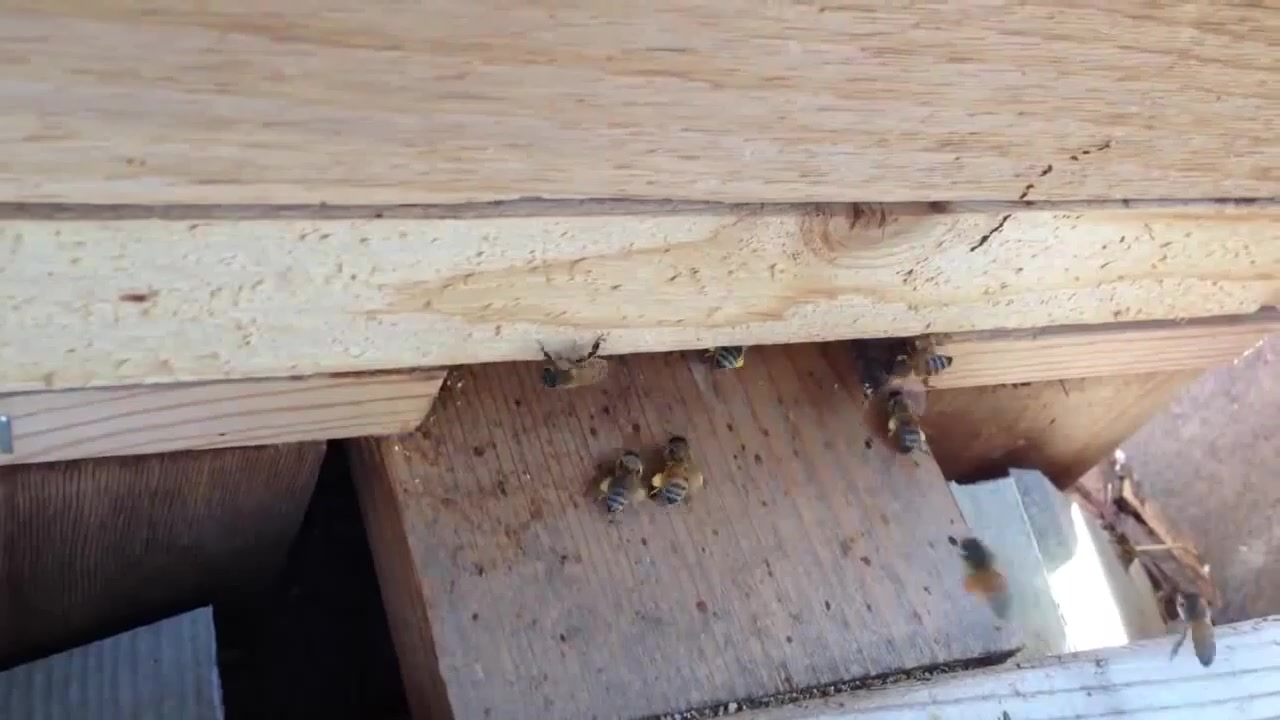pollen: (645, 433, 706, 508), (871, 387, 932, 455), (596, 446, 649, 519)
